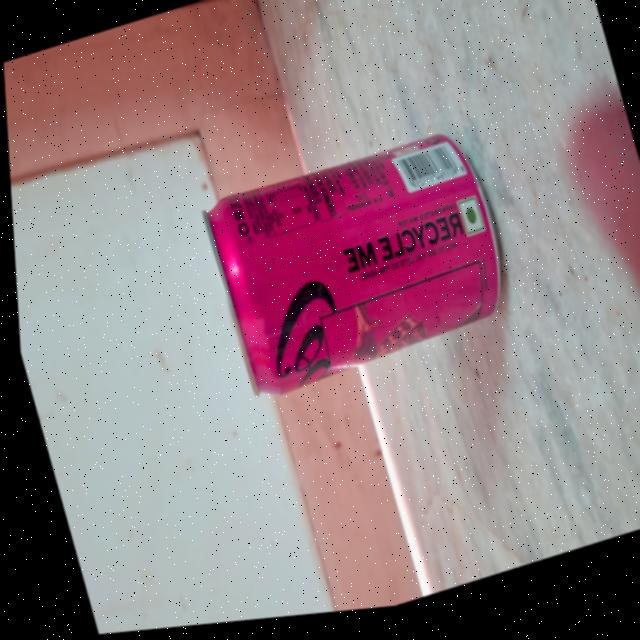Coca Cola Zero: (184, 109, 524, 422)
